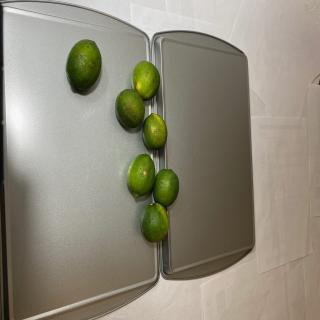Chilli: (65, 38, 102, 90)
Lemon: (127, 153, 155, 198), (131, 60, 161, 101), (115, 88, 145, 128), (140, 203, 169, 243), (153, 168, 179, 207), (142, 113, 168, 150)
